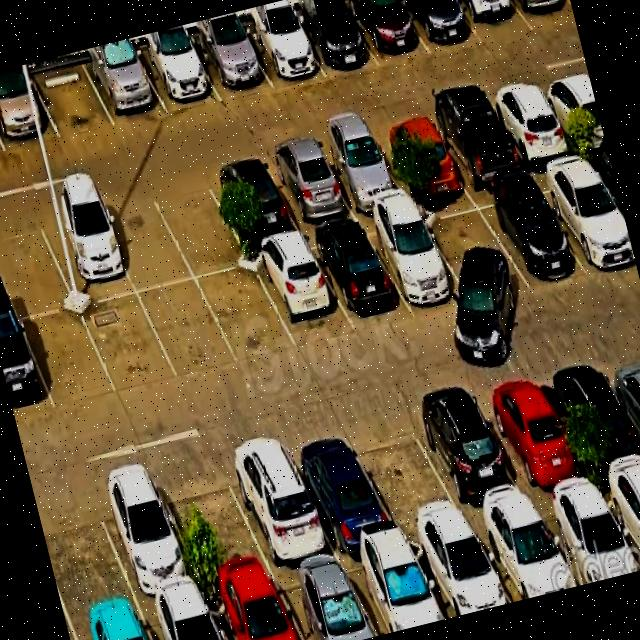empty: (152, 454, 272, 589), (343, 407, 467, 536), (34, 481, 136, 622), (417, 197, 530, 303), (148, 171, 250, 278), (95, 187, 193, 292), (80, 293, 179, 395), (138, 280, 238, 379), (20, 308, 116, 410), (197, 267, 296, 363), (0, 213, 75, 319), (29, 60, 115, 138)
occupied: (403, 387, 533, 524), (470, 371, 594, 506), (217, 432, 337, 571), (86, 467, 203, 604), (280, 422, 400, 554), (544, 354, 640, 487), (248, 236, 355, 350), (471, 181, 584, 288), (305, 222, 413, 331), (529, 161, 635, 271), (361, 210, 472, 314), (34, 200, 136, 306), (472, 508, 578, 602), (340, 541, 444, 635), (536, 493, 640, 585), (407, 527, 511, 618), (425, 100, 526, 189), (203, 157, 300, 247), (271, 560, 377, 640), (261, 143, 356, 230), (313, 130, 408, 215), (370, 116, 467, 198), (485, 84, 578, 168), (289, 0, 378, 77), (82, 49, 168, 126), (133, 39, 221, 114), (204, 575, 302, 640), (238, 16, 325, 88), (190, 28, 272, 100), (0, 316, 55, 421), (536, 71, 607, 152), (343, 0, 430, 66), (0, 73, 59, 151), (400, 0, 482, 54), (140, 591, 225, 640), (453, 0, 533, 45), (598, 344, 640, 429), (599, 478, 640, 560), (72, 607, 152, 640), (512, 0, 575, 30)
